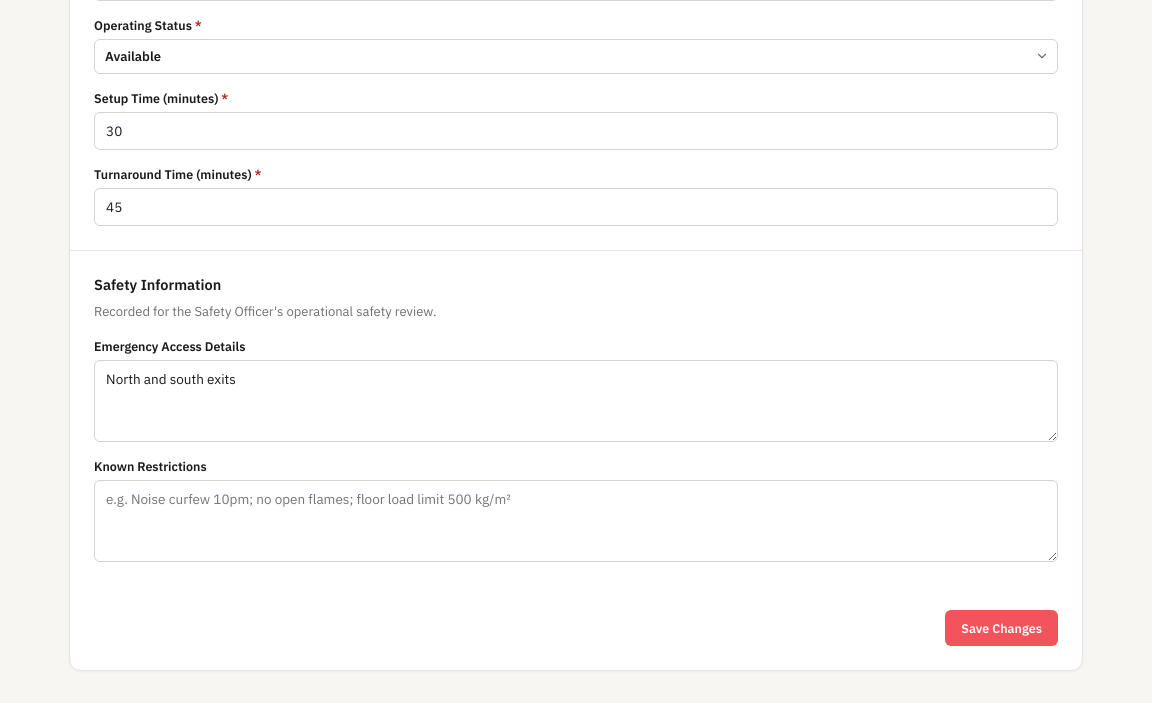
it: SCRUM-167 AC1: an unreachable Venue Service on the safety save is reported the same way
(page scrolled)
Clear the text box labelled "Emergency Access Details": x=576, y=401 [94, 360, 1058, 442]
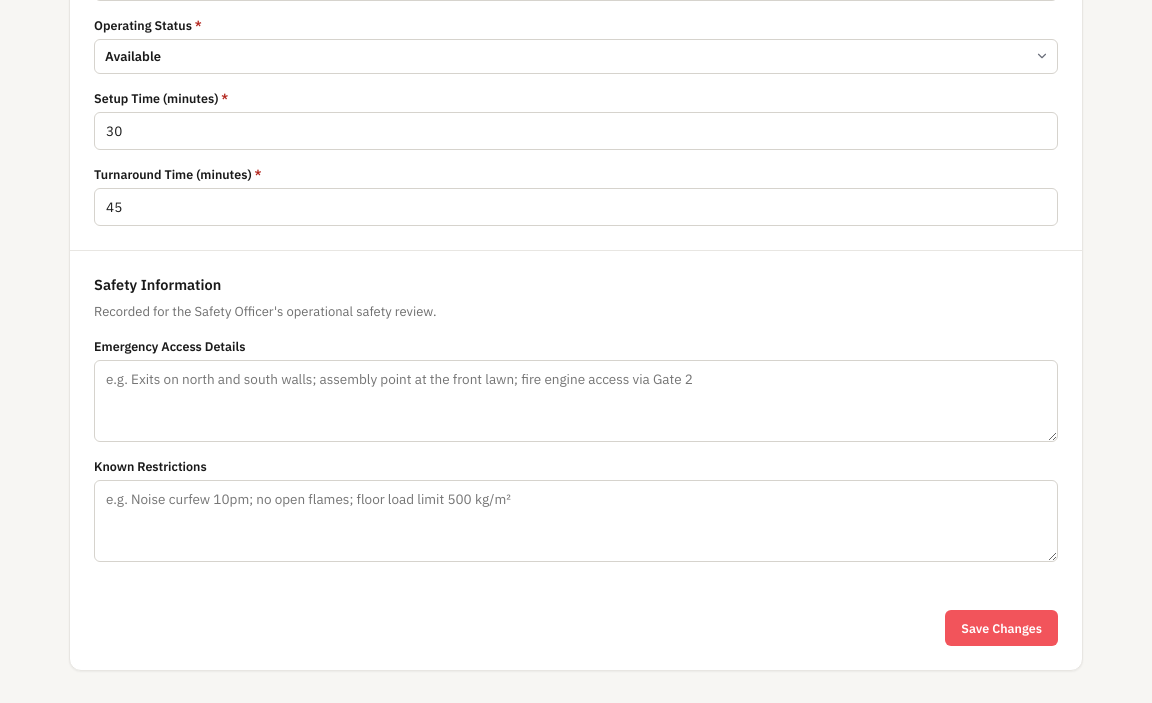
Click the button "Save Changes": x=1002, y=628 [945, 610, 1058, 646]
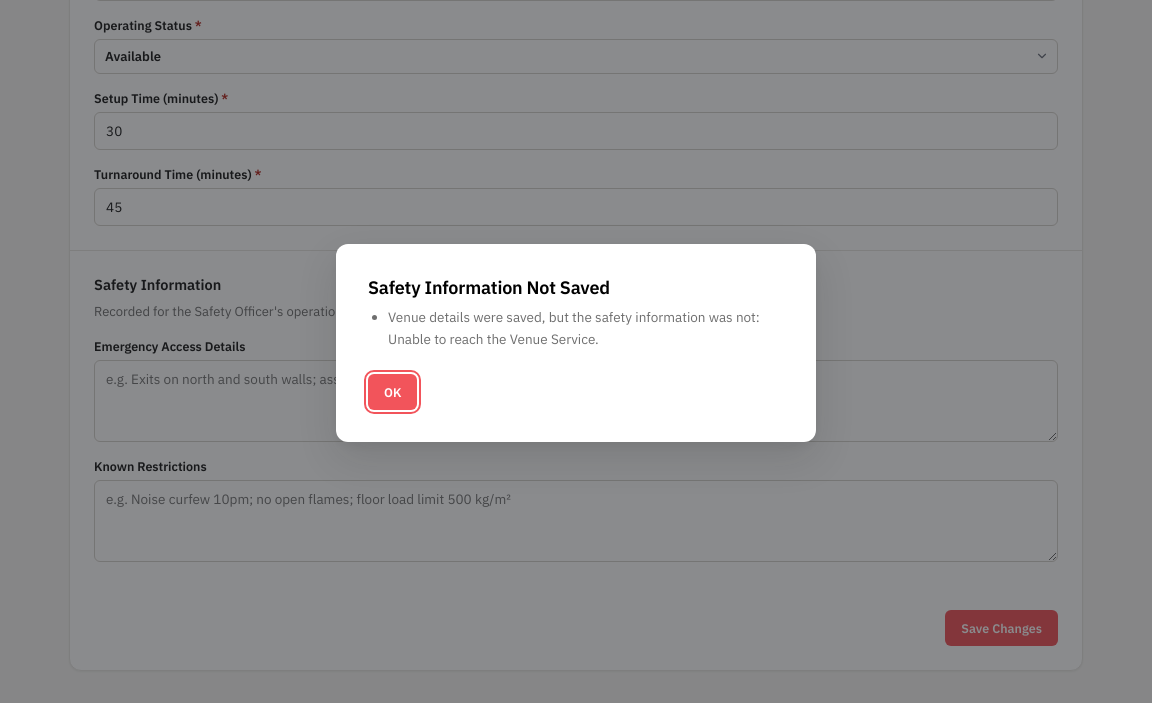
Result: the list item "Venue details were saved, but the safety information was not: Unable to reach the Venue Service." is shown at [388, 308, 760, 348]
